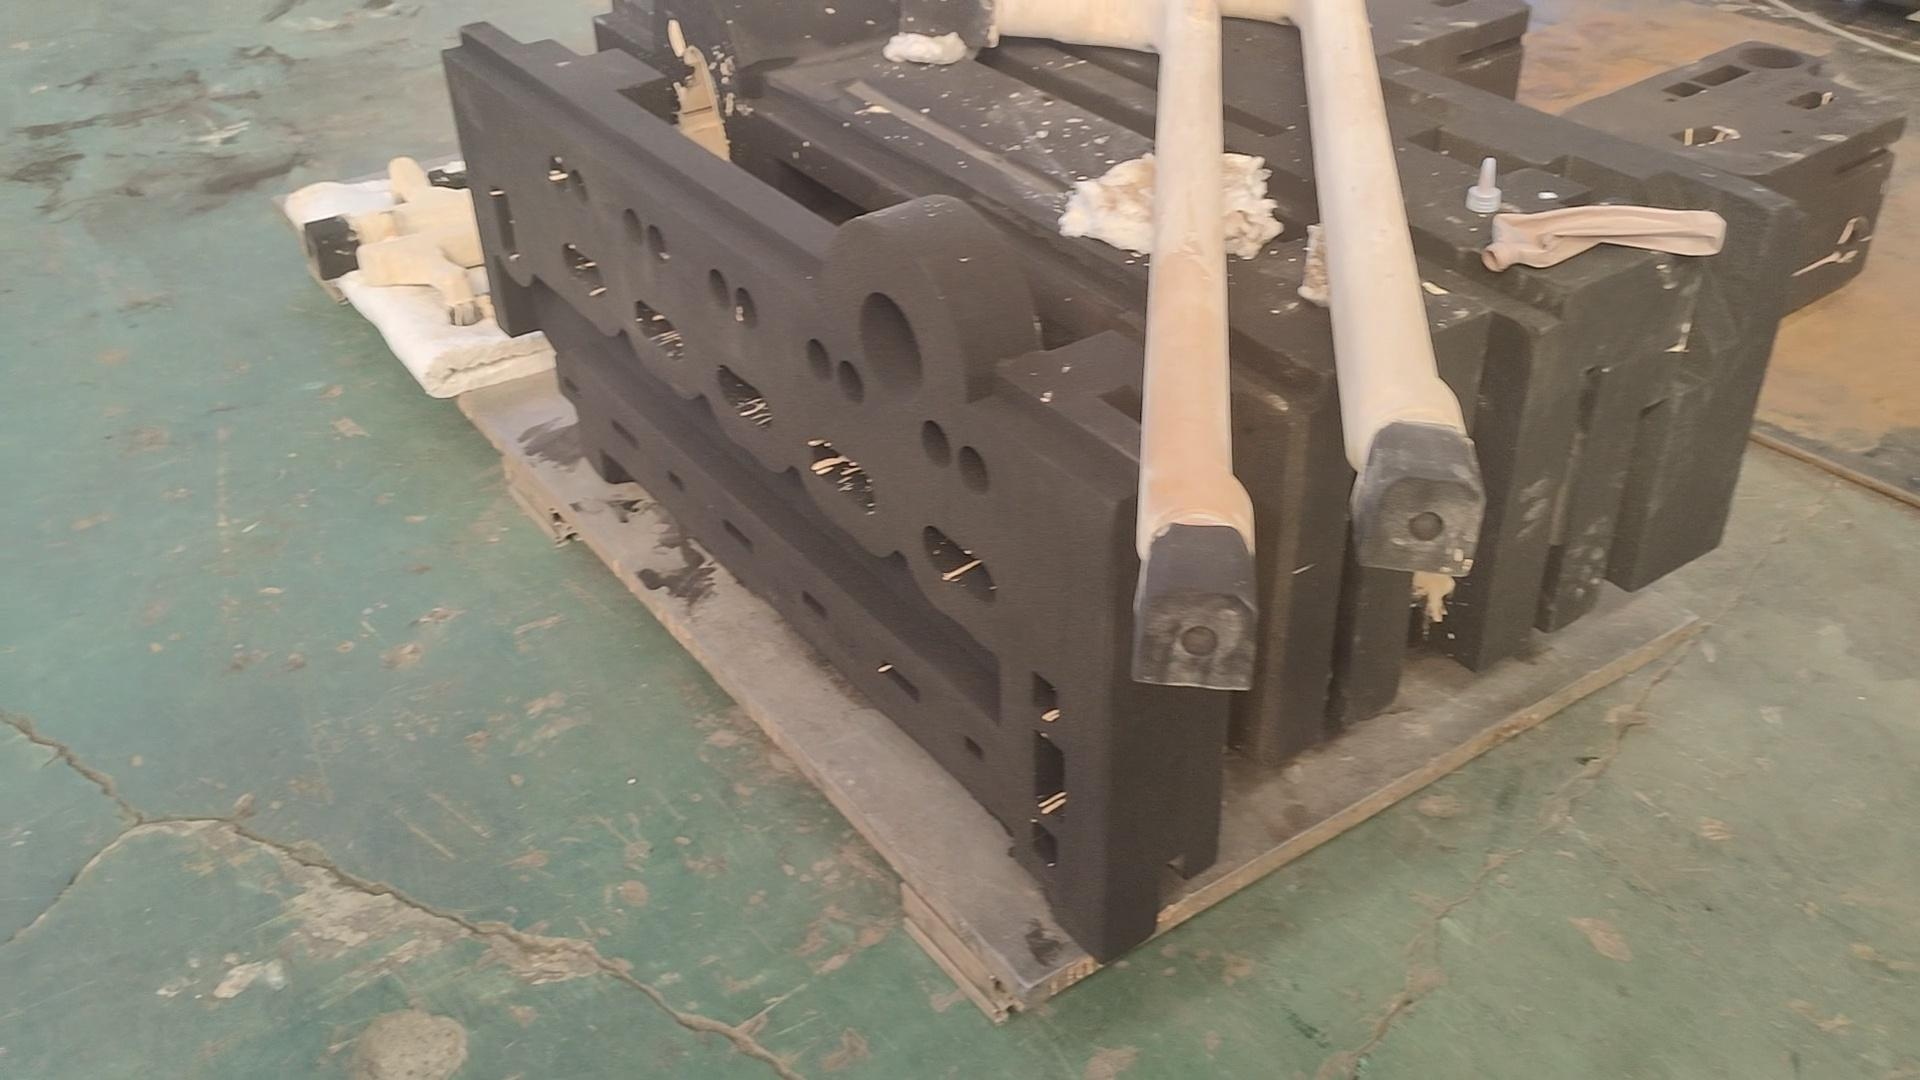pouring hole: (858, 293, 923, 404), (1734, 44, 1803, 69)
